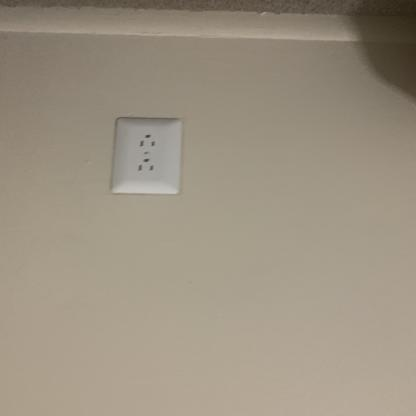OUTLET: (109, 118, 184, 194)
